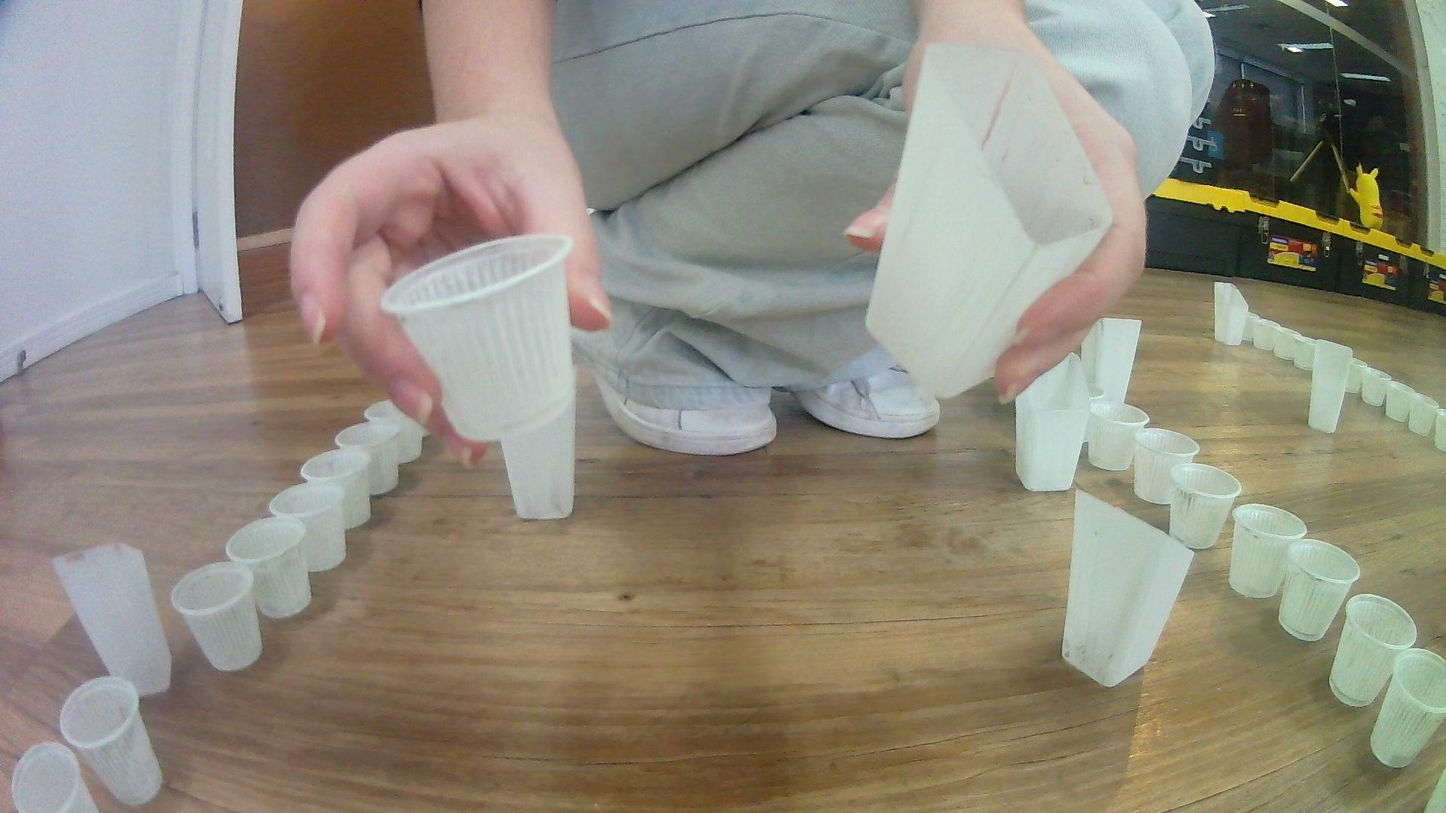erva_daninha: (864, 40, 1117, 402), (1058, 486, 1196, 690), (47, 539, 174, 702), (1014, 352, 1091, 494), (498, 393, 578, 522), (1079, 317, 1142, 409), (1308, 339, 1354, 434), (1213, 281, 1251, 346)
planta: (378, 231, 578, 443), (58, 677, 163, 808), (1328, 592, 1419, 708), (170, 562, 264, 673), (1368, 647, 1446, 770), (225, 516, 312, 620), (1277, 538, 1362, 643), (1226, 503, 1309, 600), (268, 482, 347, 573), (7, 741, 101, 813), (1167, 463, 1242, 551), (300, 449, 375, 531), (1130, 426, 1200, 506), (334, 421, 402, 495), (1084, 403, 1152, 472), (363, 400, 423, 465), (1406, 393, 1440, 437), (1383, 380, 1413, 422), (1361, 367, 1391, 407), (1268, 323, 1299, 361), (1245, 312, 1274, 350), (1294, 336, 1322, 371), (1347, 359, 1368, 393), (1433, 408, 1446, 453)
